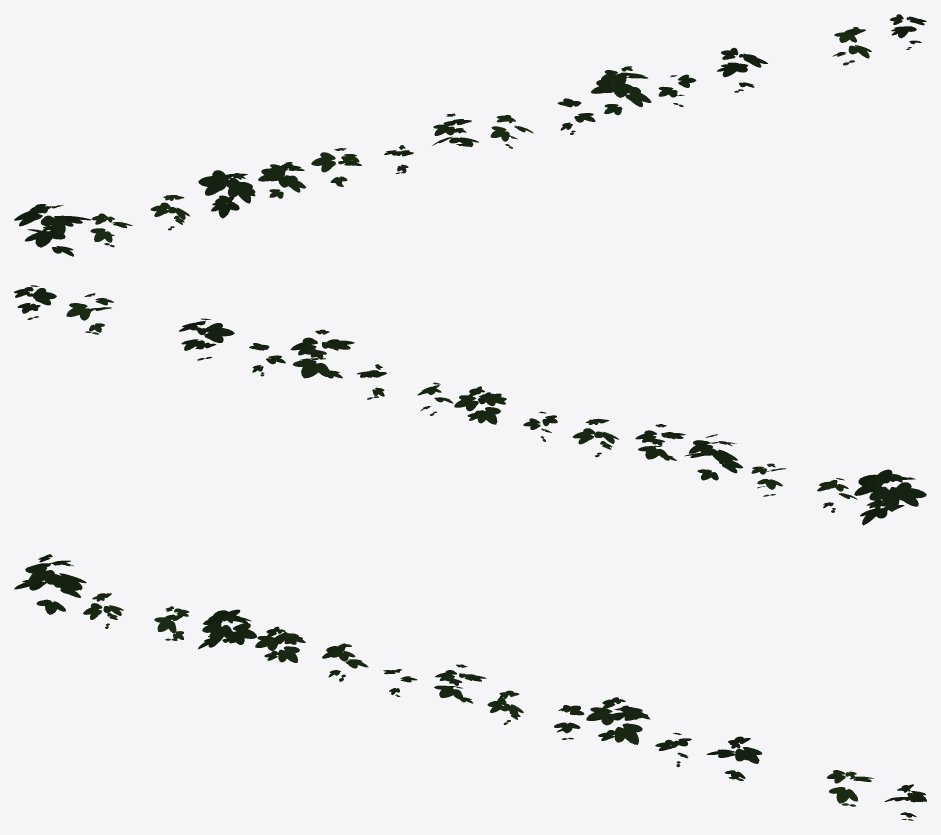
The model's file is ROW_07_SEG4_foliage.dae.
3 renders of one model, top to bottom at view 1: azimuth 30°, elevation 25°; view 2: azimuth 150°, elevation 25°; view 3: azimuth 330°, elevation 25°, orthographic.
Visible parts, largest first — view 1: ROW_07_SEG4_foliage; view 2: ROW_07_SEG4_foliage; view 3: ROW_07_SEG4_foliage.
Part boxes in pixels (x1,y1,x2,y2): ROW_07_SEG4_foliage: (14,14,926,256); ROW_07_SEG4_foliage: (14,285,926,525); ROW_07_SEG4_foliage: (14,554,926,820).
Bounding box in the file's own units: 4.83 × 0.3583 × 0.2786.
